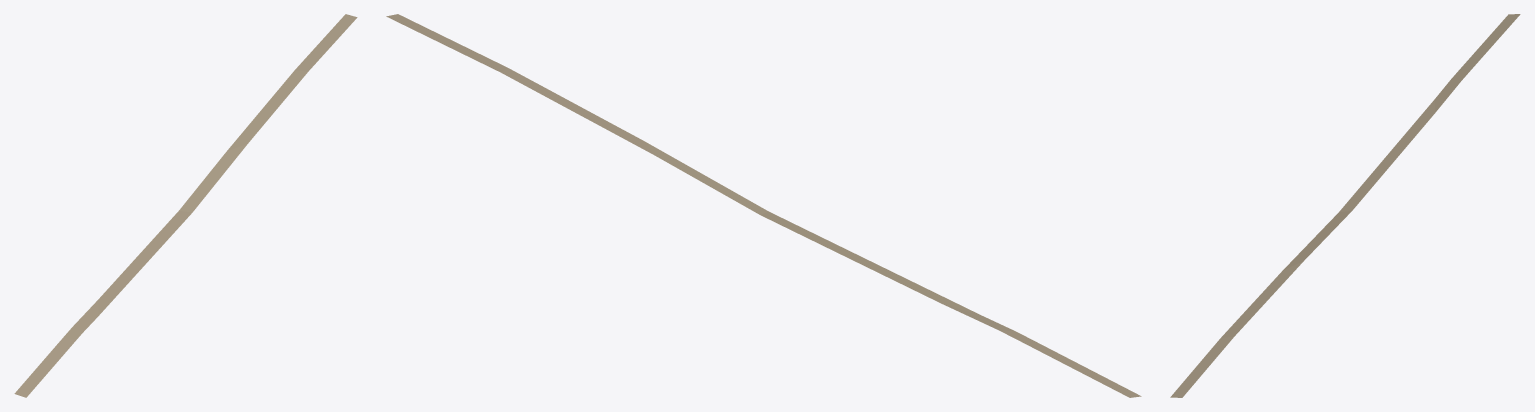
Rendered from farm_2_32_track.glb.
3 views of the same model, side by side, from view 1: azimuth 90°, elevation 25°; view 2: azimuth 150°, elevation 25°; view 3: azimuth 270°, elevation 25° (orthographic). The views are drawn at different scales.
Visible parts, largest first — view 1: geometry_0; view 2: geometry_0; view 3: geometry_0.
Part boxes in pixels (x1,y1,x2,y2): geometry_0: (14,14,357,397); geometry_0: (386,14,1141,397); geometry_0: (1170,14,1520,397).
Bounding box in the file's own units: 230 × 2.92 × 87.91.
